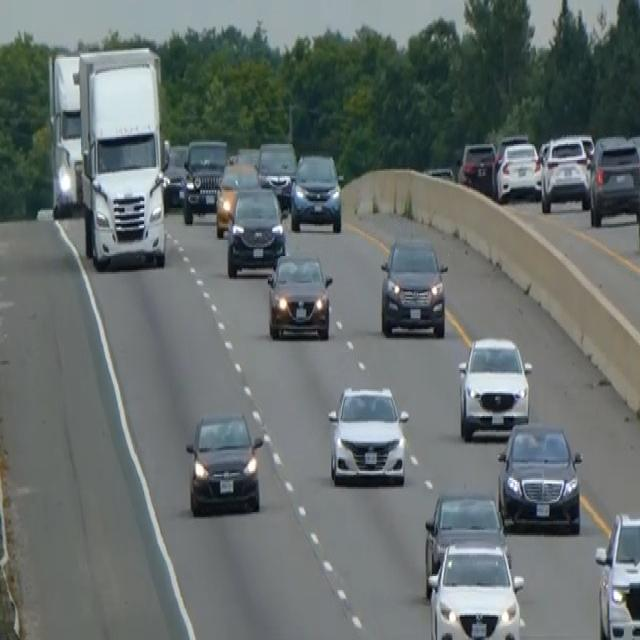car: (496, 419, 583, 534), (426, 537, 524, 638), (423, 489, 509, 595), (326, 382, 409, 487), (184, 409, 263, 515), (457, 333, 532, 439), (379, 235, 448, 338), (266, 251, 333, 341), (594, 508, 639, 638), (225, 183, 286, 277), (587, 133, 639, 226), (289, 149, 343, 233), (181, 137, 227, 224), (539, 134, 590, 212), (214, 154, 260, 236), (494, 138, 541, 202), (256, 139, 297, 208), (458, 138, 496, 194), (162, 142, 188, 208), (628, 132, 639, 220), (235, 144, 259, 169)
lorry: (76, 44, 168, 270)
